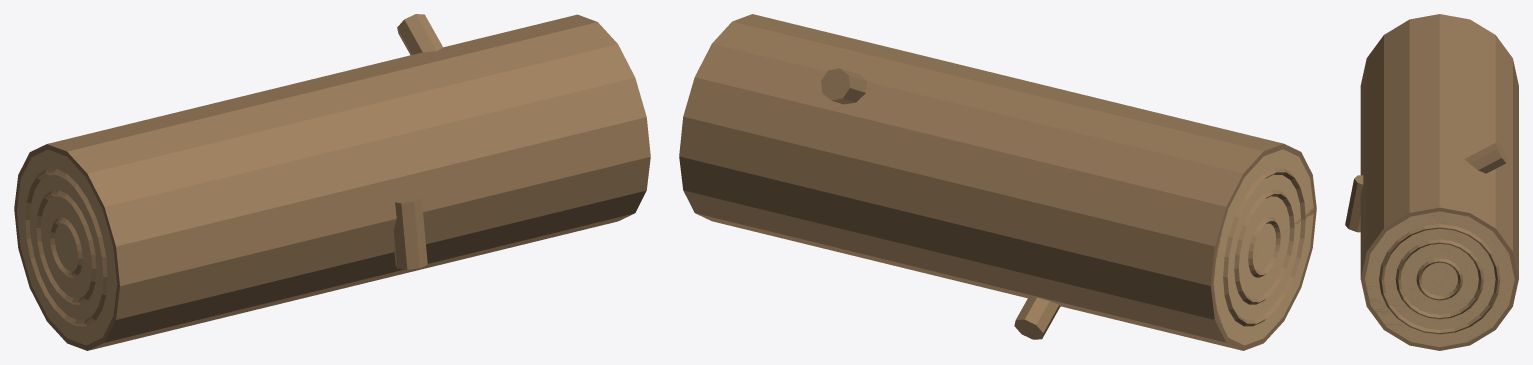
The model's file is Log.fbx.
The picture shows the model from 3 angles, left to right: view 1: azimuth 30°, elevation 25°; view 2: azimuth 150°, elevation 25°; view 3: azimuth 270°, elevation 25°; orthographic projection. The views are drawn at different scales.
Parts seen in each view (by area): view 1: Log, End.001, Stub.002, Ring.005, Ring.003, Stub, Ring.001; view 2: Log, End.001, Ring.005, Ring.003, Stub.001, Stub, Ring.001; view 3: Log, End, Ring.004, Ring.002, Stub, Stub.002, Ring.
Part boxes in pixels (<box>): Log: <box>14,14,650,350</box>; End.001: <box>17,149,117,345</box>; Stub.002: <box>393,196,427,269</box>; Ring.005: <box>25,168,107,326</box>; Ring.003: <box>36,190,96,304</box>; Stub: <box>397,14,443,55</box>; Ring.001: <box>50,217,82,277</box>; Log: <box>679,14,1316,350</box>; End.001: <box>1213,149,1313,345</box>; Ring.005: <box>1223,168,1305,326</box>; Ring.003: <box>1234,190,1294,304</box>; Stub.001: <box>1014,296,1060,339</box>; Stub: <box>821,68,867,104</box>; Ring.001: <box>1248,217,1280,277</box>; Log: <box>1360,14,1518,350</box>; End: <box>1365,211,1514,347</box>; Ring.004: <box>1379,224,1500,334</box>; Ring.002: <box>1395,239,1483,319</box>; Stub: <box>1464,142,1507,173</box>; Stub.002: <box>1345,175,1363,232</box>; Ring: <box>1416,258,1462,300</box>.
Bounding box in the file's own units: 222 × 88.71 × 83.5.
